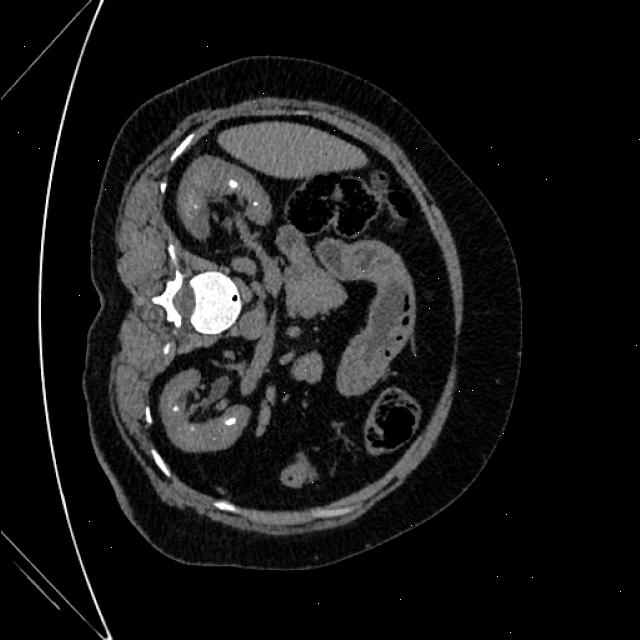kidneystone: (224, 418, 236, 426), (228, 180, 238, 189), (172, 405, 179, 411), (193, 204, 199, 210), (252, 201, 258, 206)
